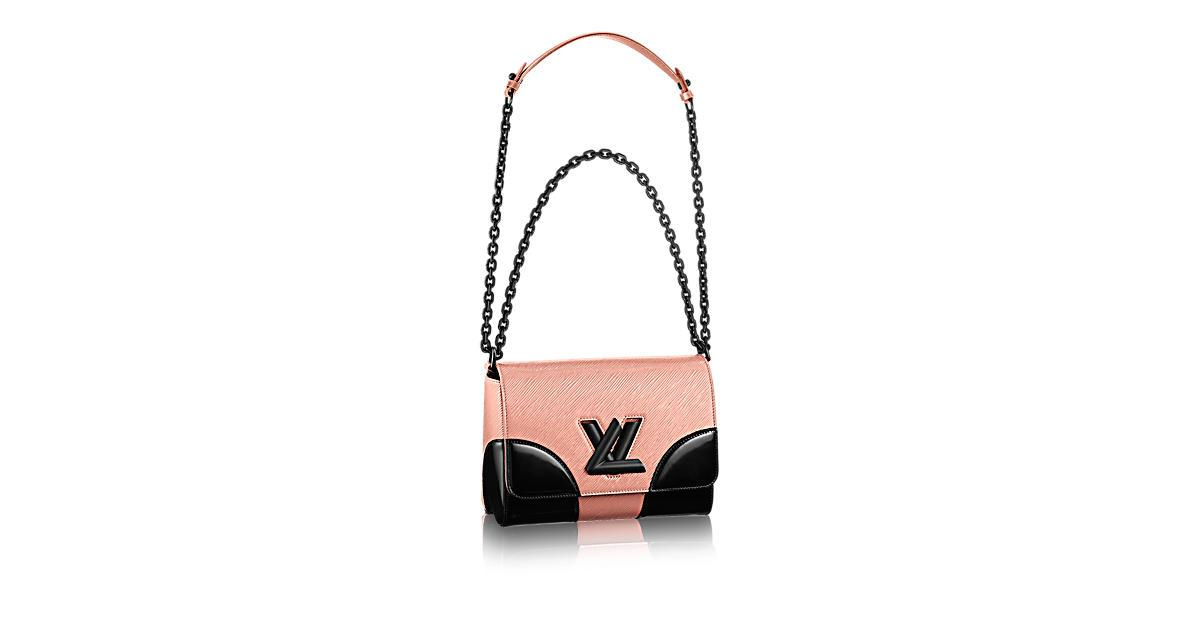LOUIS-VUITTON: (579, 412, 648, 477)
